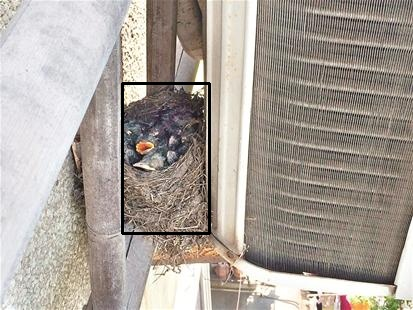bird-nest: (122, 83, 209, 233)
